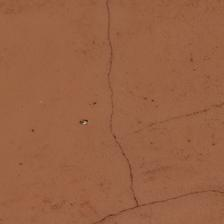Crack: (20, 56, 123, 168), (0, 106, 145, 145)
